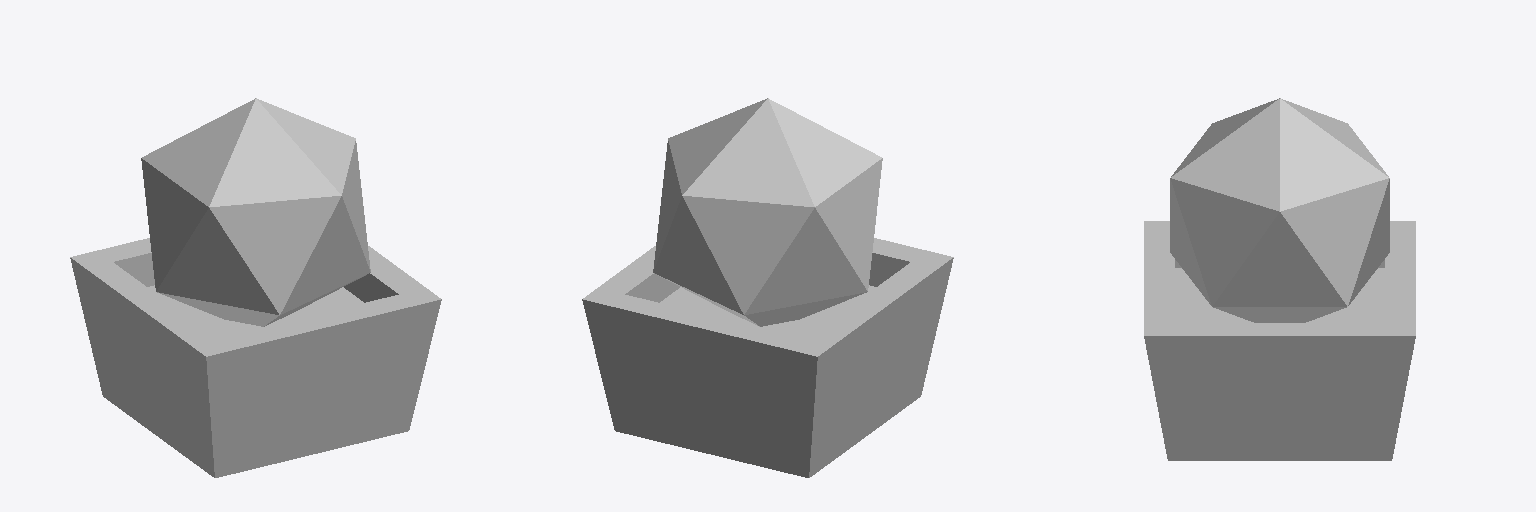
Rendered from Natures_Pot Bush_small.obj.
3 views of the same model, side by side, from view 1: azimuth 30°, elevation 25°; view 2: azimuth 150°, elevation 25°; view 3: azimuth 270°, elevation 25° (orthographic).
Parts seen in each view (by area): view 1: Natures_Pot_Bush_small; view 2: Natures_Pot_Bush_small; view 3: Natures_Pot_Bush_small.
Boxes of the visible parts, box(x1,y1,x2,y2) form: Natures_Pot_Bush_small: box(70, 98, 441, 477); Natures_Pot_Bush_small: box(582, 98, 953, 477); Natures_Pot_Bush_small: box(1144, 98, 1415, 460).
Bounding box in the file's own units: 28.67 × 36.67 × 28.67.